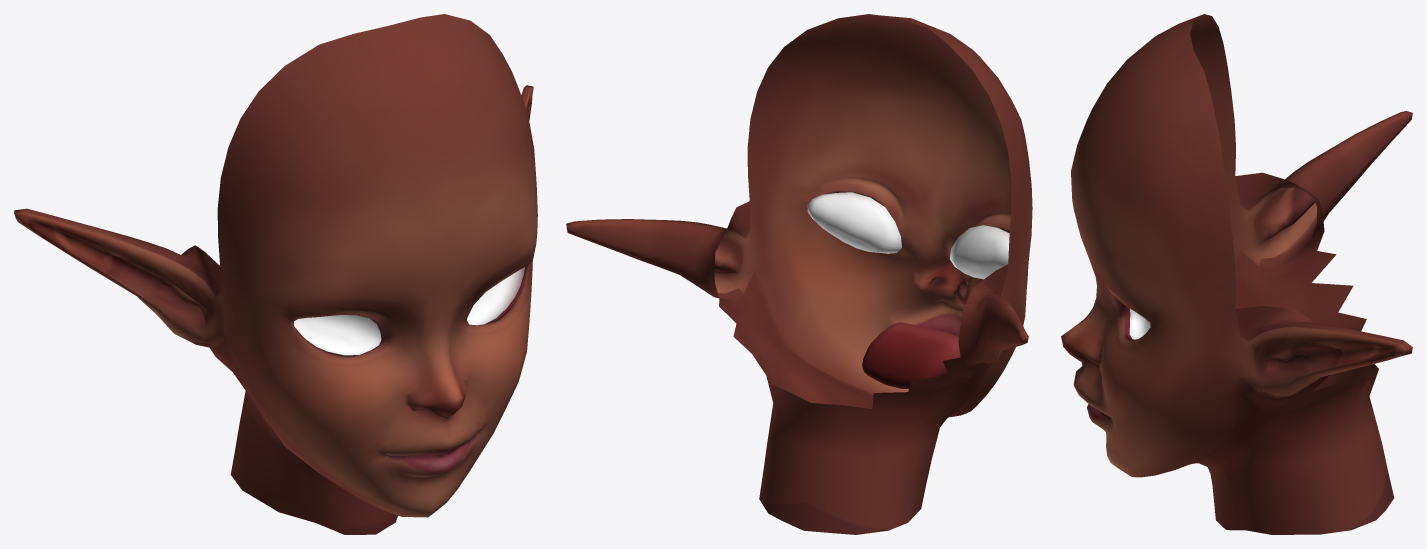
Rendered from AmarisFace.fbx.
3 views of the same model, side by side, from view 1: azimuth 30°, elevation 25°; view 2: azimuth 150°, elevation 25°; view 3: azimuth 270°, elevation 25° (orthographic). The views are drawn at different scales.
Visible parts, largest first — view 1: Mesh_HeadMouth1; view 2: Mesh_HeadMouth1; view 3: Mesh_HeadMouth1.
Boxes of the visible parts, x1,y1,x2,y2 form: Mesh_HeadMouth1: (14,14,537,534); Mesh_HeadMouth1: (566,14,1032,534); Mesh_HeadMouth1: (1061,14,1412,534).
Size of the model in its own units: 23.95 by 22.87 by 14.99.
Materials: 2 (2 with a texture image).
